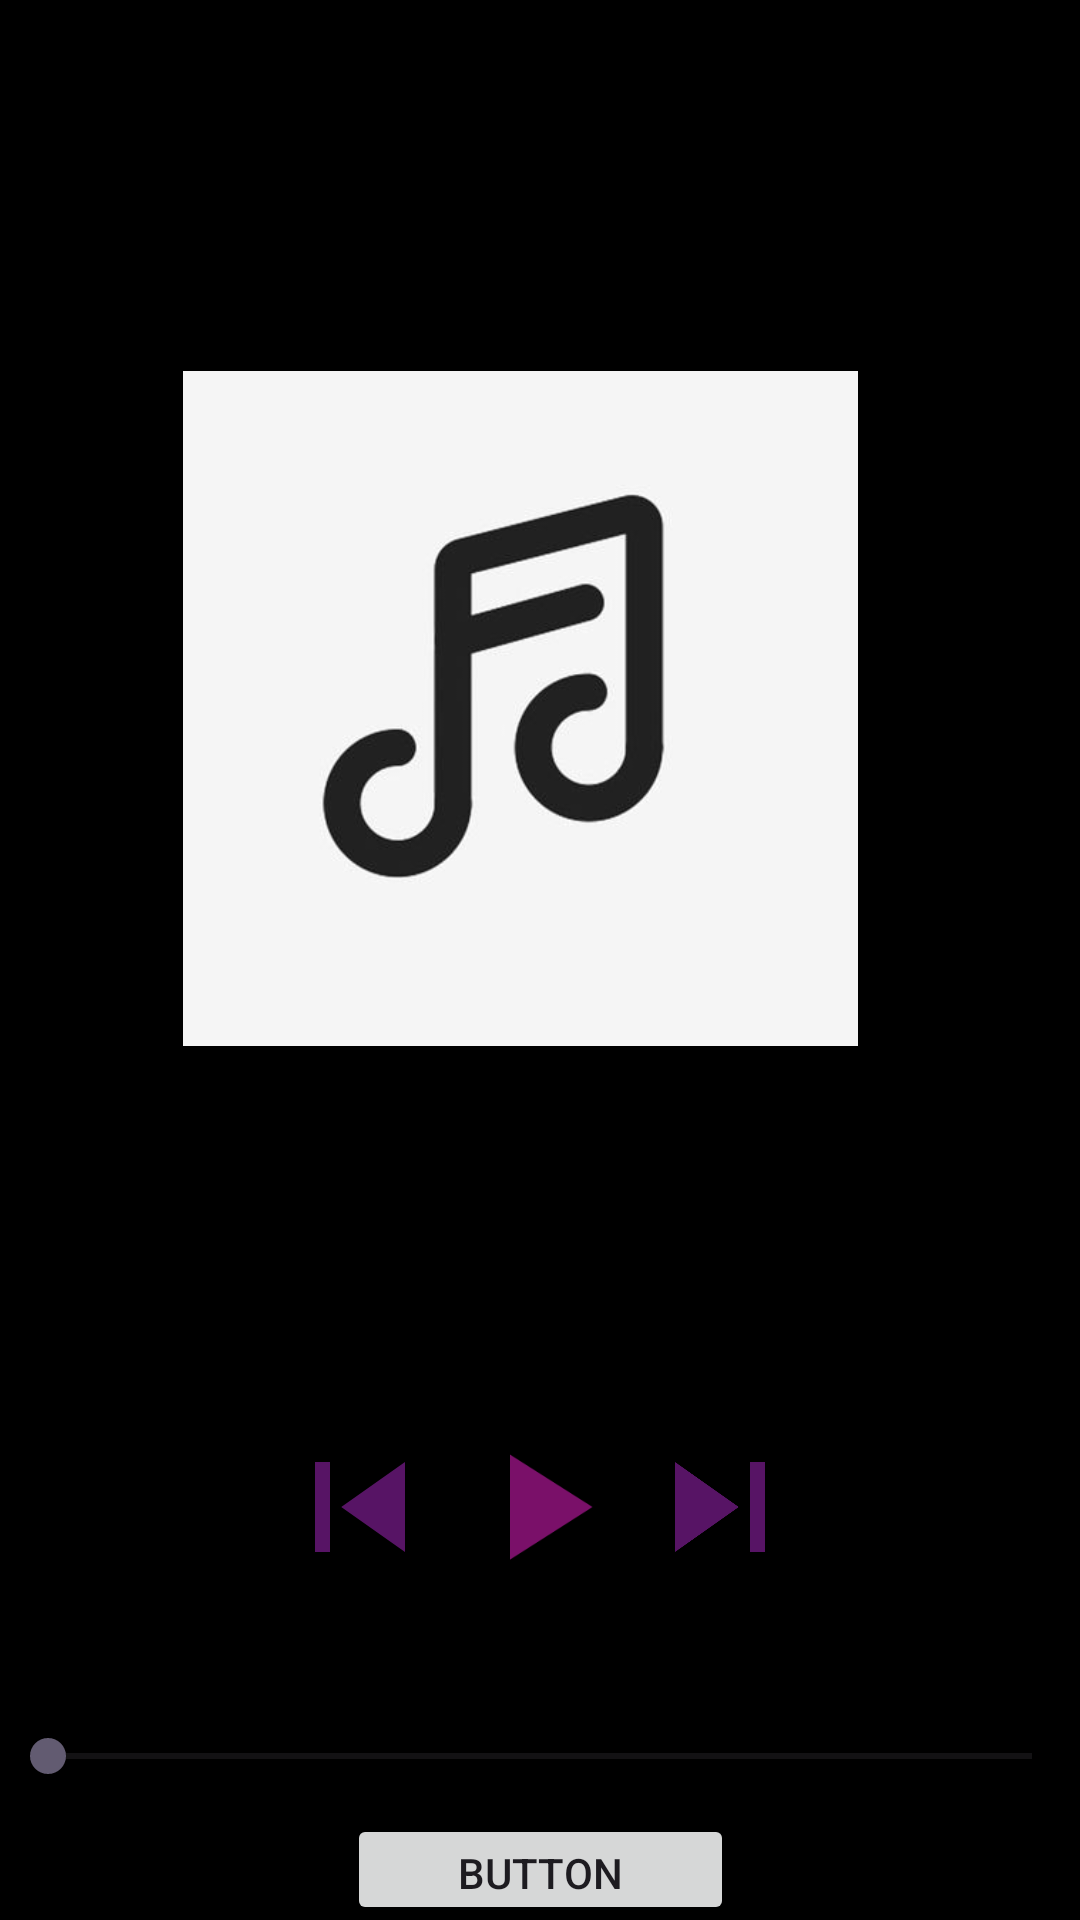

Screen size 1080x1920. Icon name, then its box in pixels as (x1, y1, x2, y2):
play arrow: (510, 1455, 592, 1560)
skip next: (675, 1462, 765, 1552)
skip previous: (315, 1462, 405, 1552)
